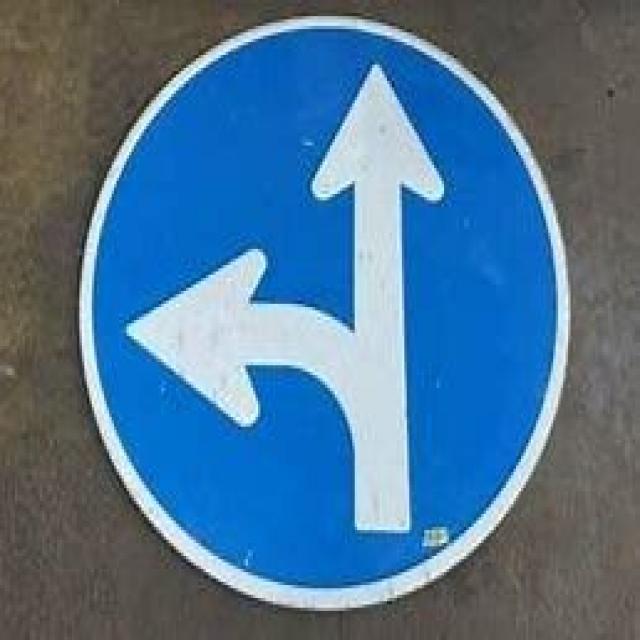COMPULSARY_AHEAD_OR_TURN_LEFT: (74, 10, 570, 611)
